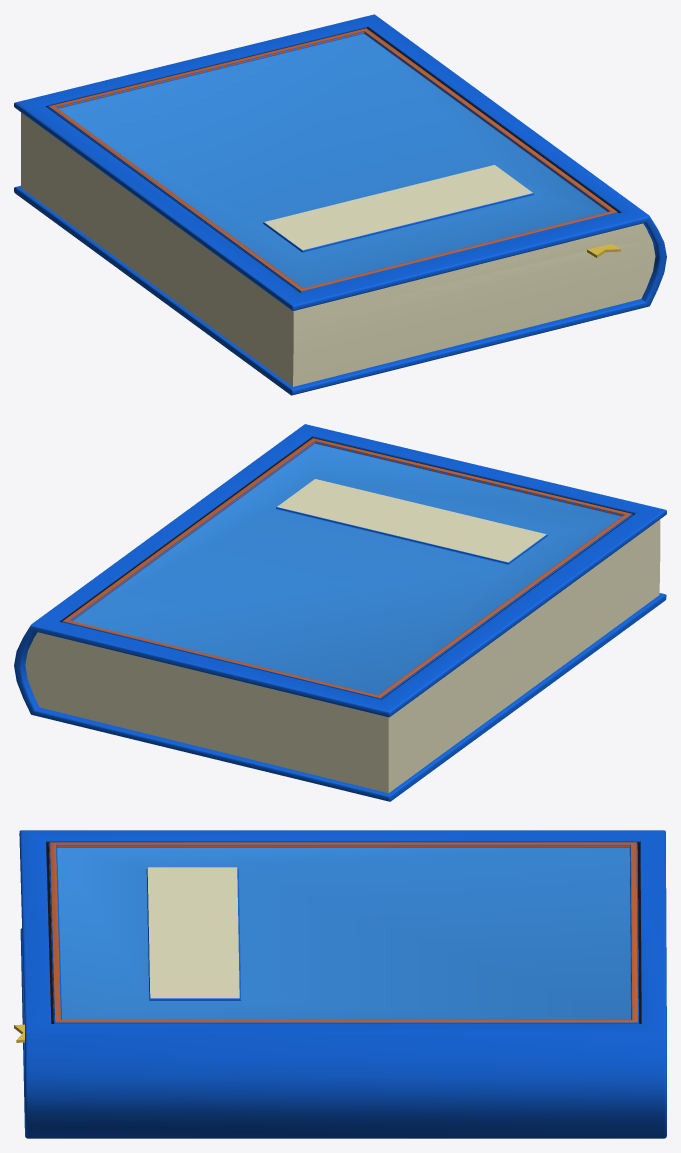
Rendered from close_book_01.glb.
The picture shows the model from 3 angles, top to bottom: view 1: azimuth 30°, elevation 25°; view 2: azimuth 150°, elevation 25°; view 3: azimuth 270°, elevation 25°; orthographic projection. The views are drawn at different scales.
Parts seen in each view (by area): view 1: Cube; view 2: Cube; view 3: Cube.
Boxes of the visible parts, box(x1,y1,x2,y2) form: Cube: box(14, 14, 666, 395); Cube: box(14, 424, 666, 801); Cube: box(14, 830, 666, 1138).
Size of the model in its own units: 2.18 by 0.5 by 2.82.
